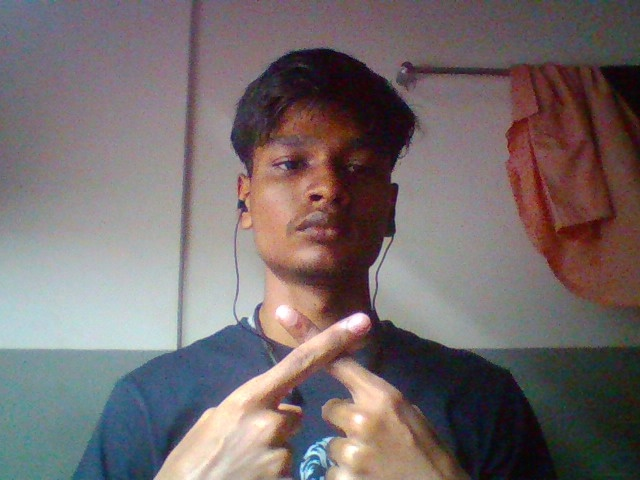X: (154, 296, 459, 480)
